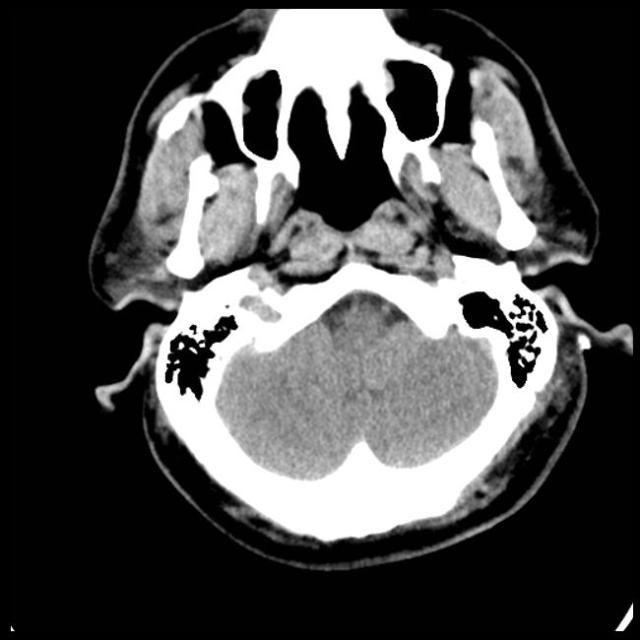lesion: (85, 6, 629, 571)
